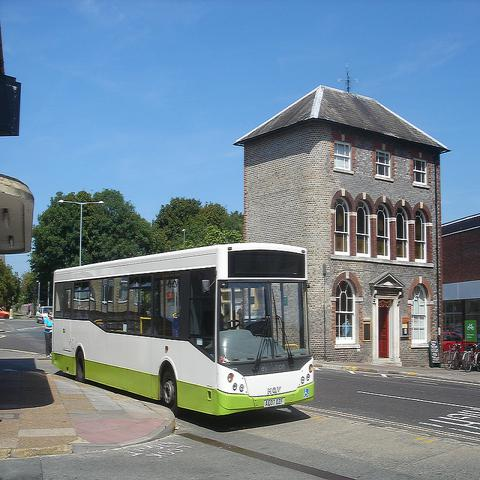bus: (50, 240, 316, 418)
car: (443, 330, 476, 350), (0, 307, 10, 319)
